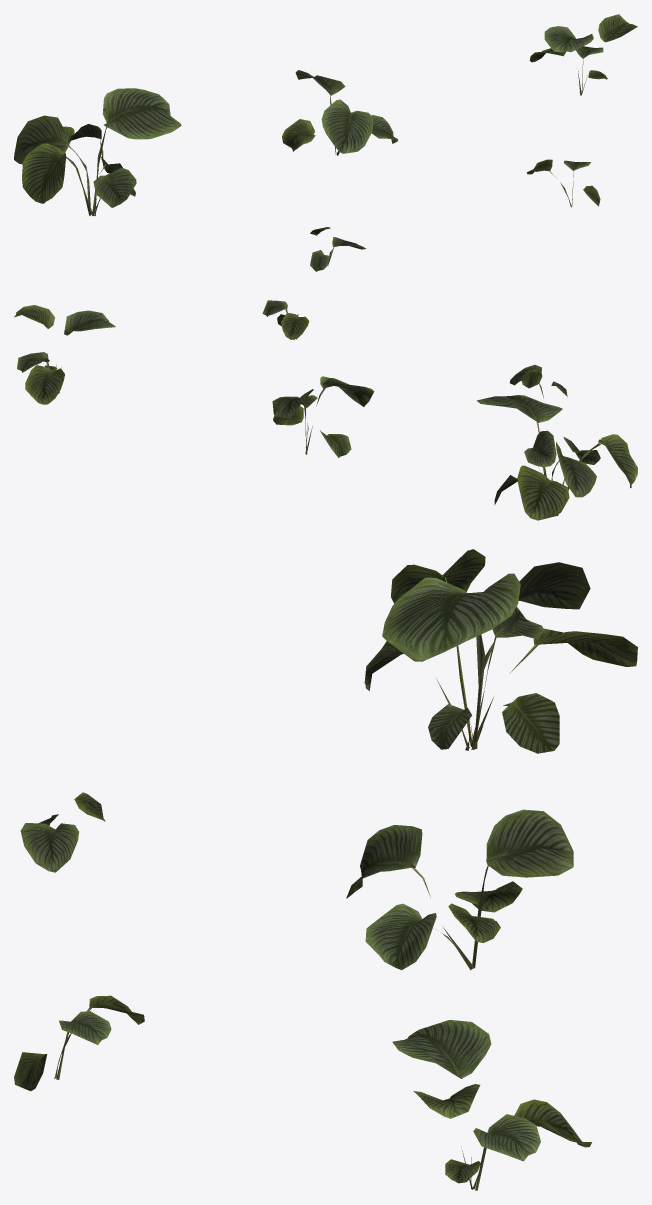
File: calathea_orbifolia_01.glb
3 views of the same model, one above another, from view 1: azimuth 30°, elevation 25°; view 2: azimuth 150°, elevation 25°; view 3: azimuth 270°, elevation 25° (orthographic). The views are drawn at different scales.
Parts seen in each view (by area): view 1: calathea_orbifolia_01_a; view 2: calathea_orbifolia_01_a; view 3: calathea_orbifolia_01_a.
Part boxes in pixels (x1,y1,x2,y2): calathea_orbifolia_01_a: (14, 14, 637, 271); calathea_orbifolia_01_a: (14, 300, 637, 520); calathea_orbifolia_01_a: (14, 549, 637, 1190).
Bounding box in the file's own units: 2.49 × 0.4221 × 1.19.
1 material, 1 textured.
